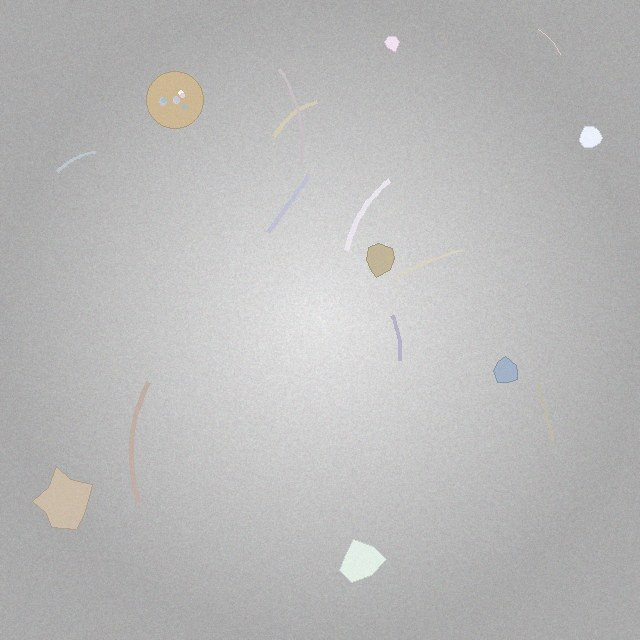fiber: (342, 175, 394, 255), (126, 378, 153, 508), (263, 172, 313, 238), (277, 66, 305, 169), (392, 247, 466, 281), (270, 98, 320, 140), (535, 380, 555, 444), (54, 148, 99, 175), (387, 310, 405, 365), (536, 28, 562, 57)
foam: (147, 71, 204, 128)
fragment: (33, 467, 92, 530), (340, 539, 386, 583), (366, 244, 394, 278), (493, 357, 518, 383), (579, 126, 603, 147), (384, 37, 400, 52)
